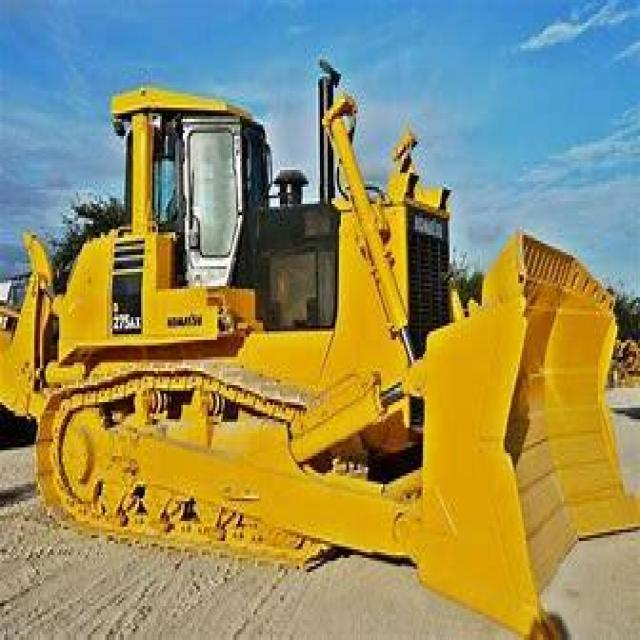buldozerpayloadergrader: (2, 36, 638, 628)
